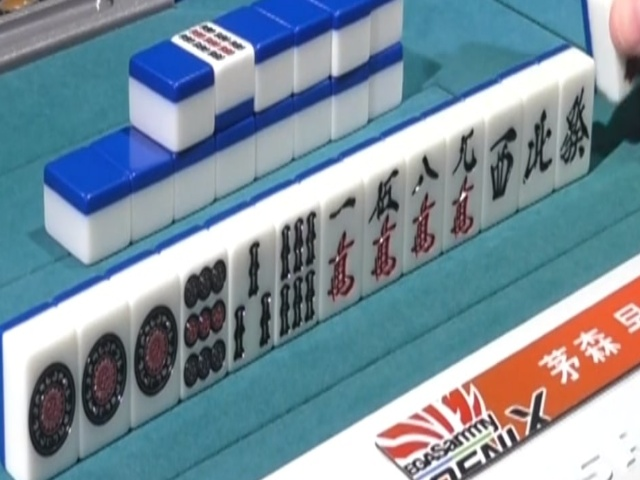1pin: (22, 331, 76, 472), (128, 285, 180, 412), (82, 314, 127, 440)
1wan: (320, 186, 360, 303)
